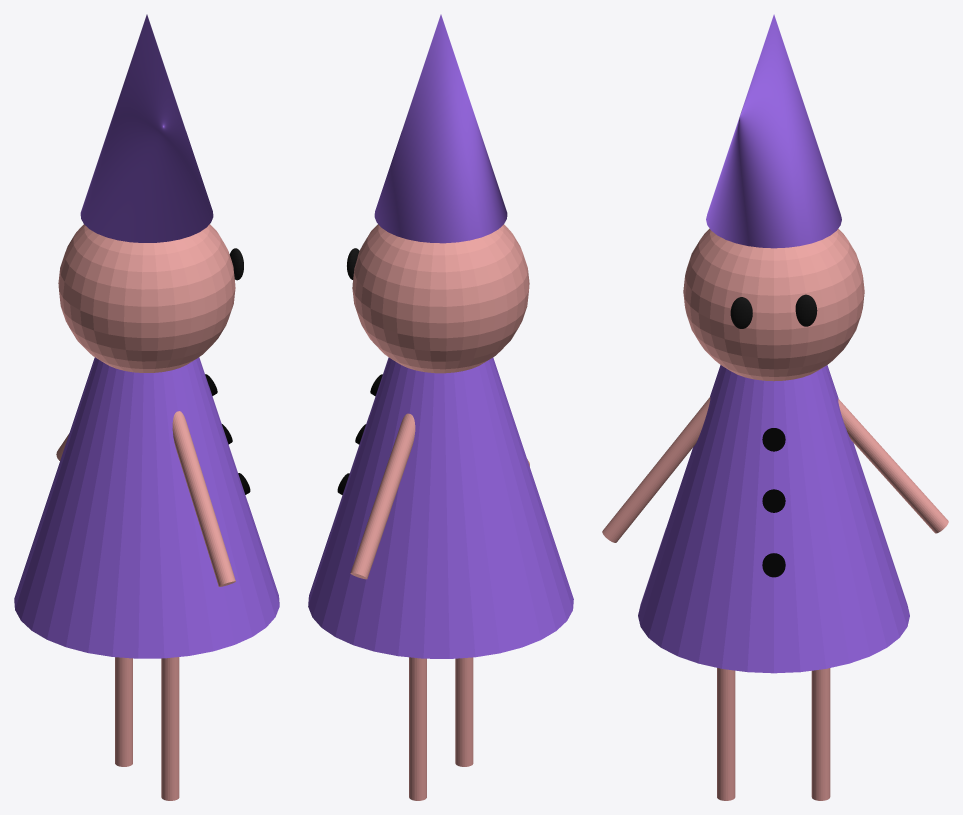
3 renders of one model, left to right at view 1: azimuth 30°, elevation 25°; view 2: azimuth 150°, elevation 25°; view 3: azimuth 270°, elevation 25°, orthographic. The views are drawn at different scales.
Parts seen in each view (by area): view 1: 小人; view 2: 小人; view 3: 小人.
Part boxes in pixels (left/top/right/bottom): 小人: left=14, top=14, right=279, bottom=800; 小人: left=308, top=14, right=573, bottom=800; 小人: left=602, top=14, right=948, bottom=800.
Size of the model in its own units: 0.612 by 1.94 by 0.7795.
